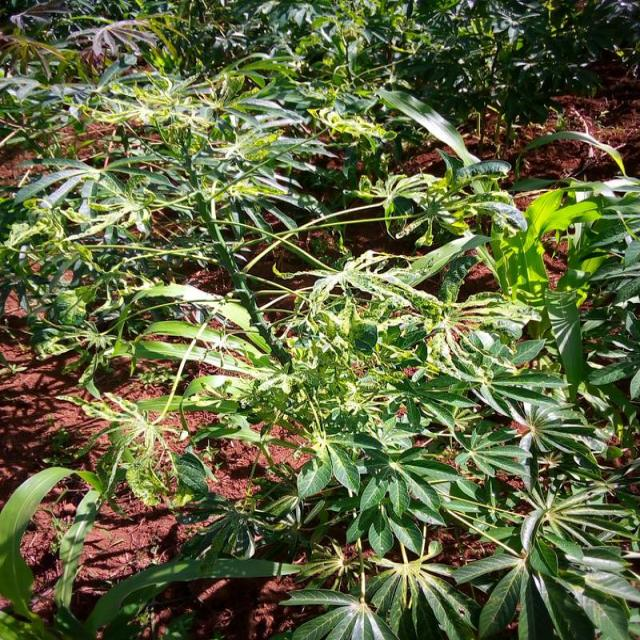Mosaico: (71, 82, 301, 199), (260, 293, 361, 445), (475, 171, 603, 276), (17, 203, 122, 313), (62, 401, 182, 488), (394, 298, 499, 363), (307, 107, 405, 157), (377, 163, 437, 235)
